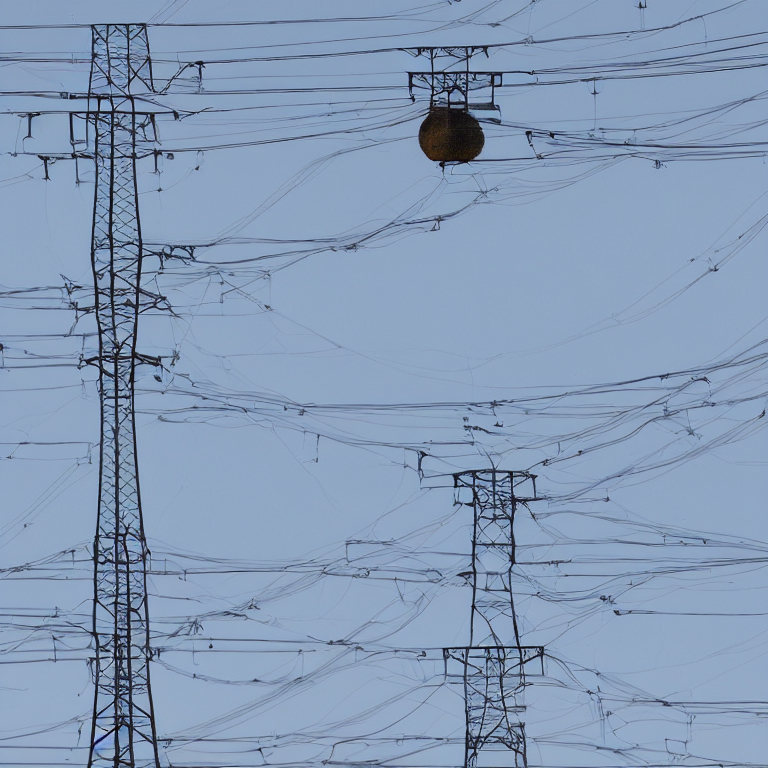nest: (422, 103, 487, 165)
